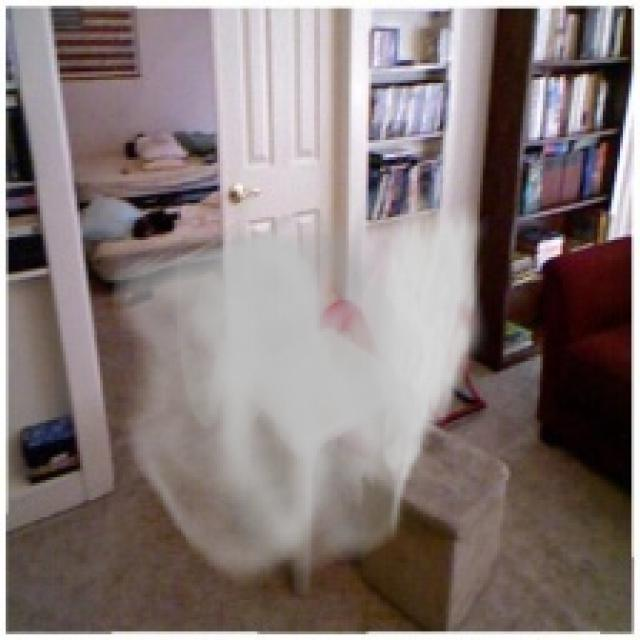smoke: (111, 183, 488, 591)
